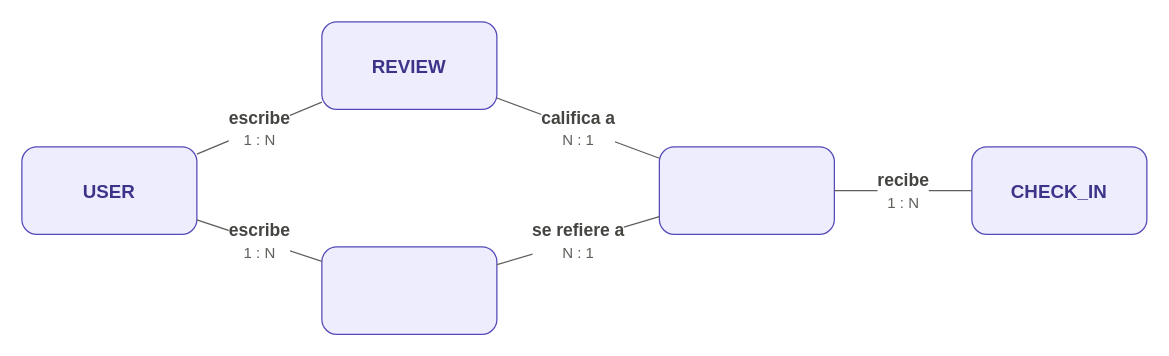
Image size: 1169x356. Some labels were removed from this diagram. The shapes that lost their labels are listed below. From the top down, each one's centre as x and y in pixels, then its label:
At point (746, 190): "BUSINESS".
At point (409, 290): "TIP".
